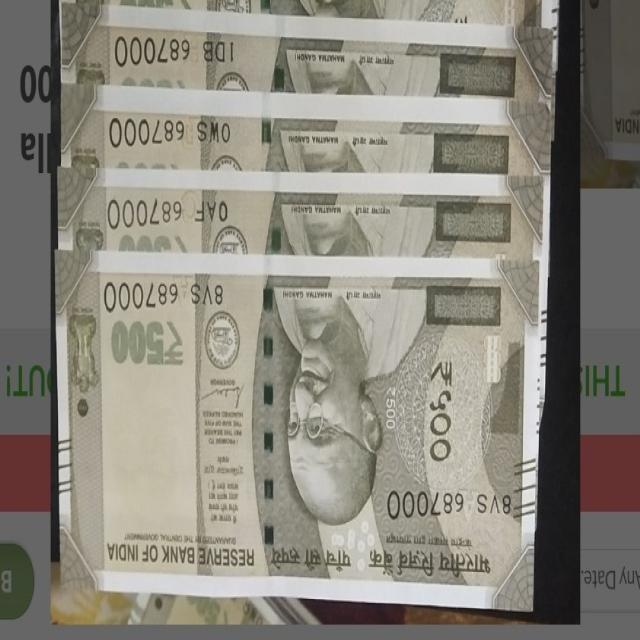500IndianRupees: (55, 249, 534, 607)
